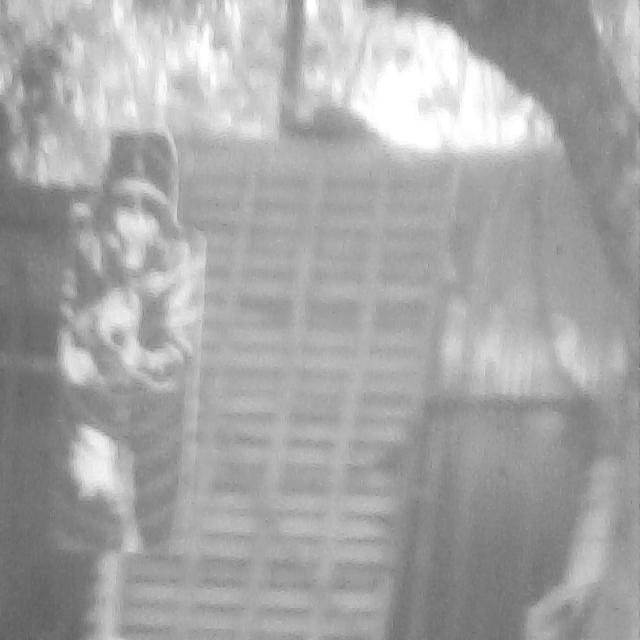bia: (46, 129, 212, 557)
